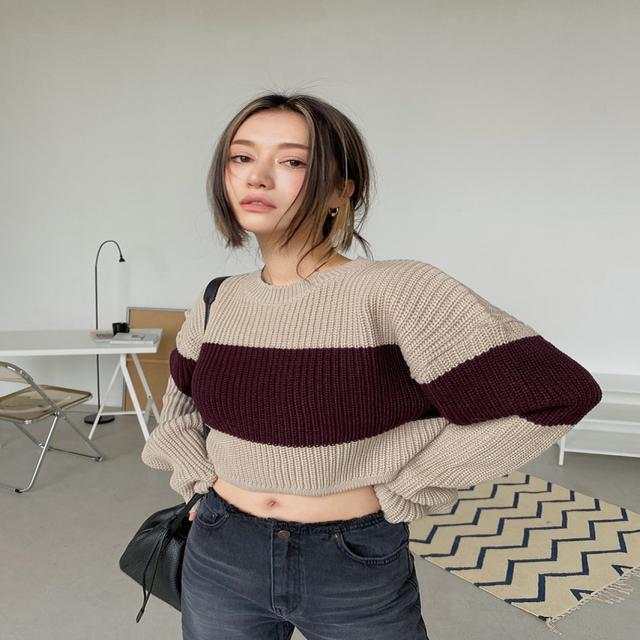clothes: (146, 252, 461, 640)
